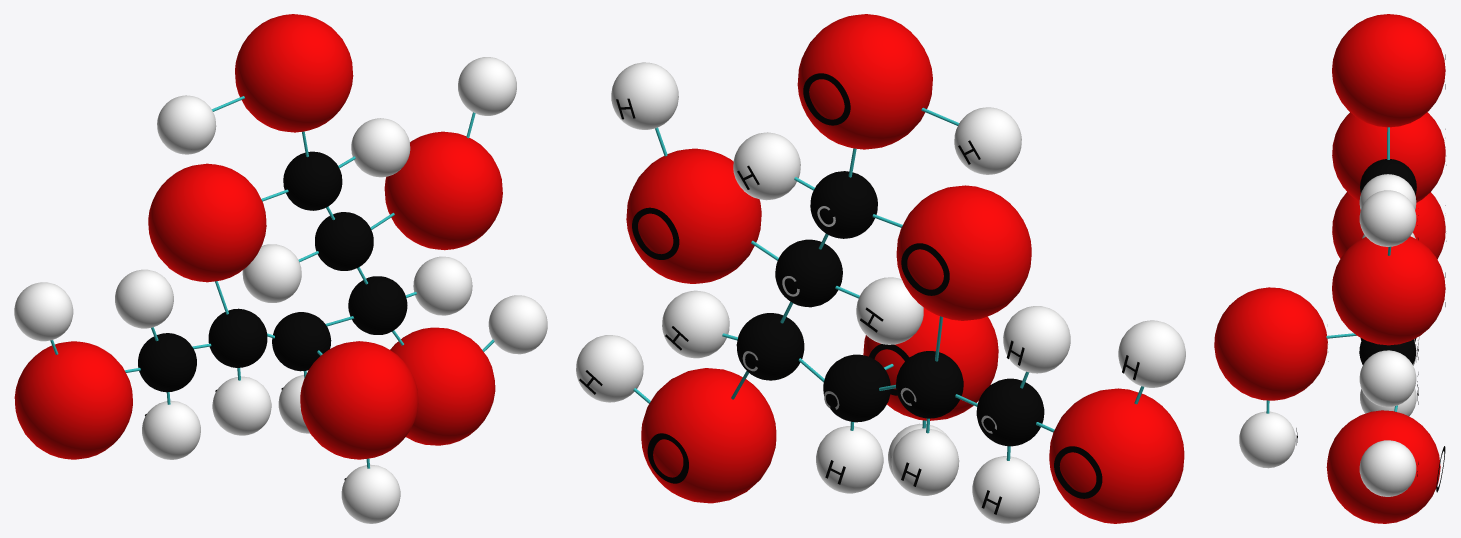
The picture shows the model from 3 angles, left to right: view 1: azimuth 30°, elevation 25°; view 2: azimuth 150°, elevation 25°; view 3: azimuth 270°, elevation 25°; orthographic projection. The views are drawn at different scales.
Parts seen in each view (by area): view 1: Sphere005, Sphere015, Sphere002, Sphere023, Sphere008, Sphere011, Sphere024, Sphere012, Sphere001, Sphere009, Sphere013, Sphere022 (+12 smaller); view 2: Sphere011, Sphere002, Sphere005, Sphere023, Sphere008, Sphere015, Sphere022, Sphere014, Sphere009, Sphere001, Sphere020, Sphere018 (+16 smaller); view 3: Sphere002, Sphere015, Sphere008, Sphere011, Sphere005, Sphere023, Sphere013, Sphere009, Sphere012, Sphere016, Sphere004, Sphere003 (+2 smaller).
Boxes of the visible parts, bbox=[...] form: Sphere005: bbox=[148, 163, 266, 282]; Sphere015: bbox=[300, 341, 418, 459]; Sphere002: bbox=[235, 14, 353, 132]; Sphere023: bbox=[14, 341, 132, 459]; Sphere008: bbox=[384, 131, 502, 250]; Sphere011: bbox=[390, 327, 495, 445]; Sphere024: bbox=[14, 282, 73, 341]; Sphere012: bbox=[488, 295, 547, 354]; Sphere001: bbox=[157, 95, 216, 154]; Sphere009: bbox=[458, 57, 516, 115]; Sphere013: bbox=[413, 256, 472, 315]; Sphere022: bbox=[115, 269, 173, 328]; Sphere011: bbox=[641, 368, 776, 503]; Sphere002: bbox=[797, 14, 932, 149]; Sphere005: bbox=[896, 185, 1031, 320]; Sphere023: bbox=[1049, 388, 1184, 523]; Sphere008: bbox=[626, 148, 761, 283]; Sphere015: bbox=[863, 307, 998, 420]; Sphere022: bbox=[1003, 306, 1070, 373]; Sphere014: bbox=[823, 354, 890, 422]; Sphere009: bbox=[611, 62, 678, 129]; Sphere001: bbox=[954, 107, 1021, 174]; Sphere020: bbox=[976, 378, 1044, 446]; Sphere018: bbox=[896, 351, 963, 418]; Sphere002: bbox=[1332, 14, 1445, 127]; Sphere015: bbox=[1214, 287, 1327, 400]; Sphere008: bbox=[1332, 236, 1445, 345]; Sphere011: bbox=[1326, 410, 1440, 523]; Sphere005: bbox=[1332, 112, 1445, 202]; Sphere023: bbox=[1332, 192, 1445, 259]; Sphere013: bbox=[1359, 350, 1416, 406]; Sphere009: bbox=[1359, 190, 1416, 246]; Sphere012: bbox=[1359, 440, 1416, 496]; Sphere016: bbox=[1239, 411, 1295, 468]; Sphere004: bbox=[1359, 174, 1416, 209]; Sphere003: bbox=[1360, 159, 1416, 195].
Bounding box in the file's own units: 409 × 341 × 164.
